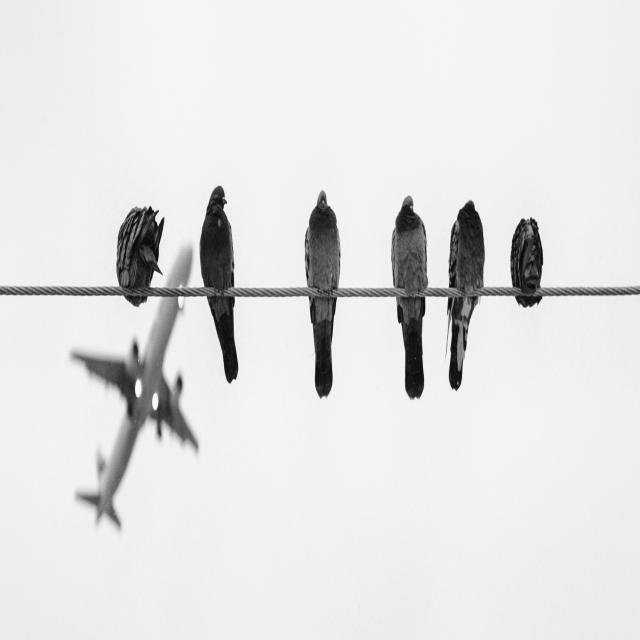airplane: (57, 224, 210, 546)
pigeon: (194, 180, 245, 369), (300, 186, 348, 377), (383, 188, 432, 363), (447, 166, 489, 363), (505, 178, 555, 327), (104, 198, 165, 311)
